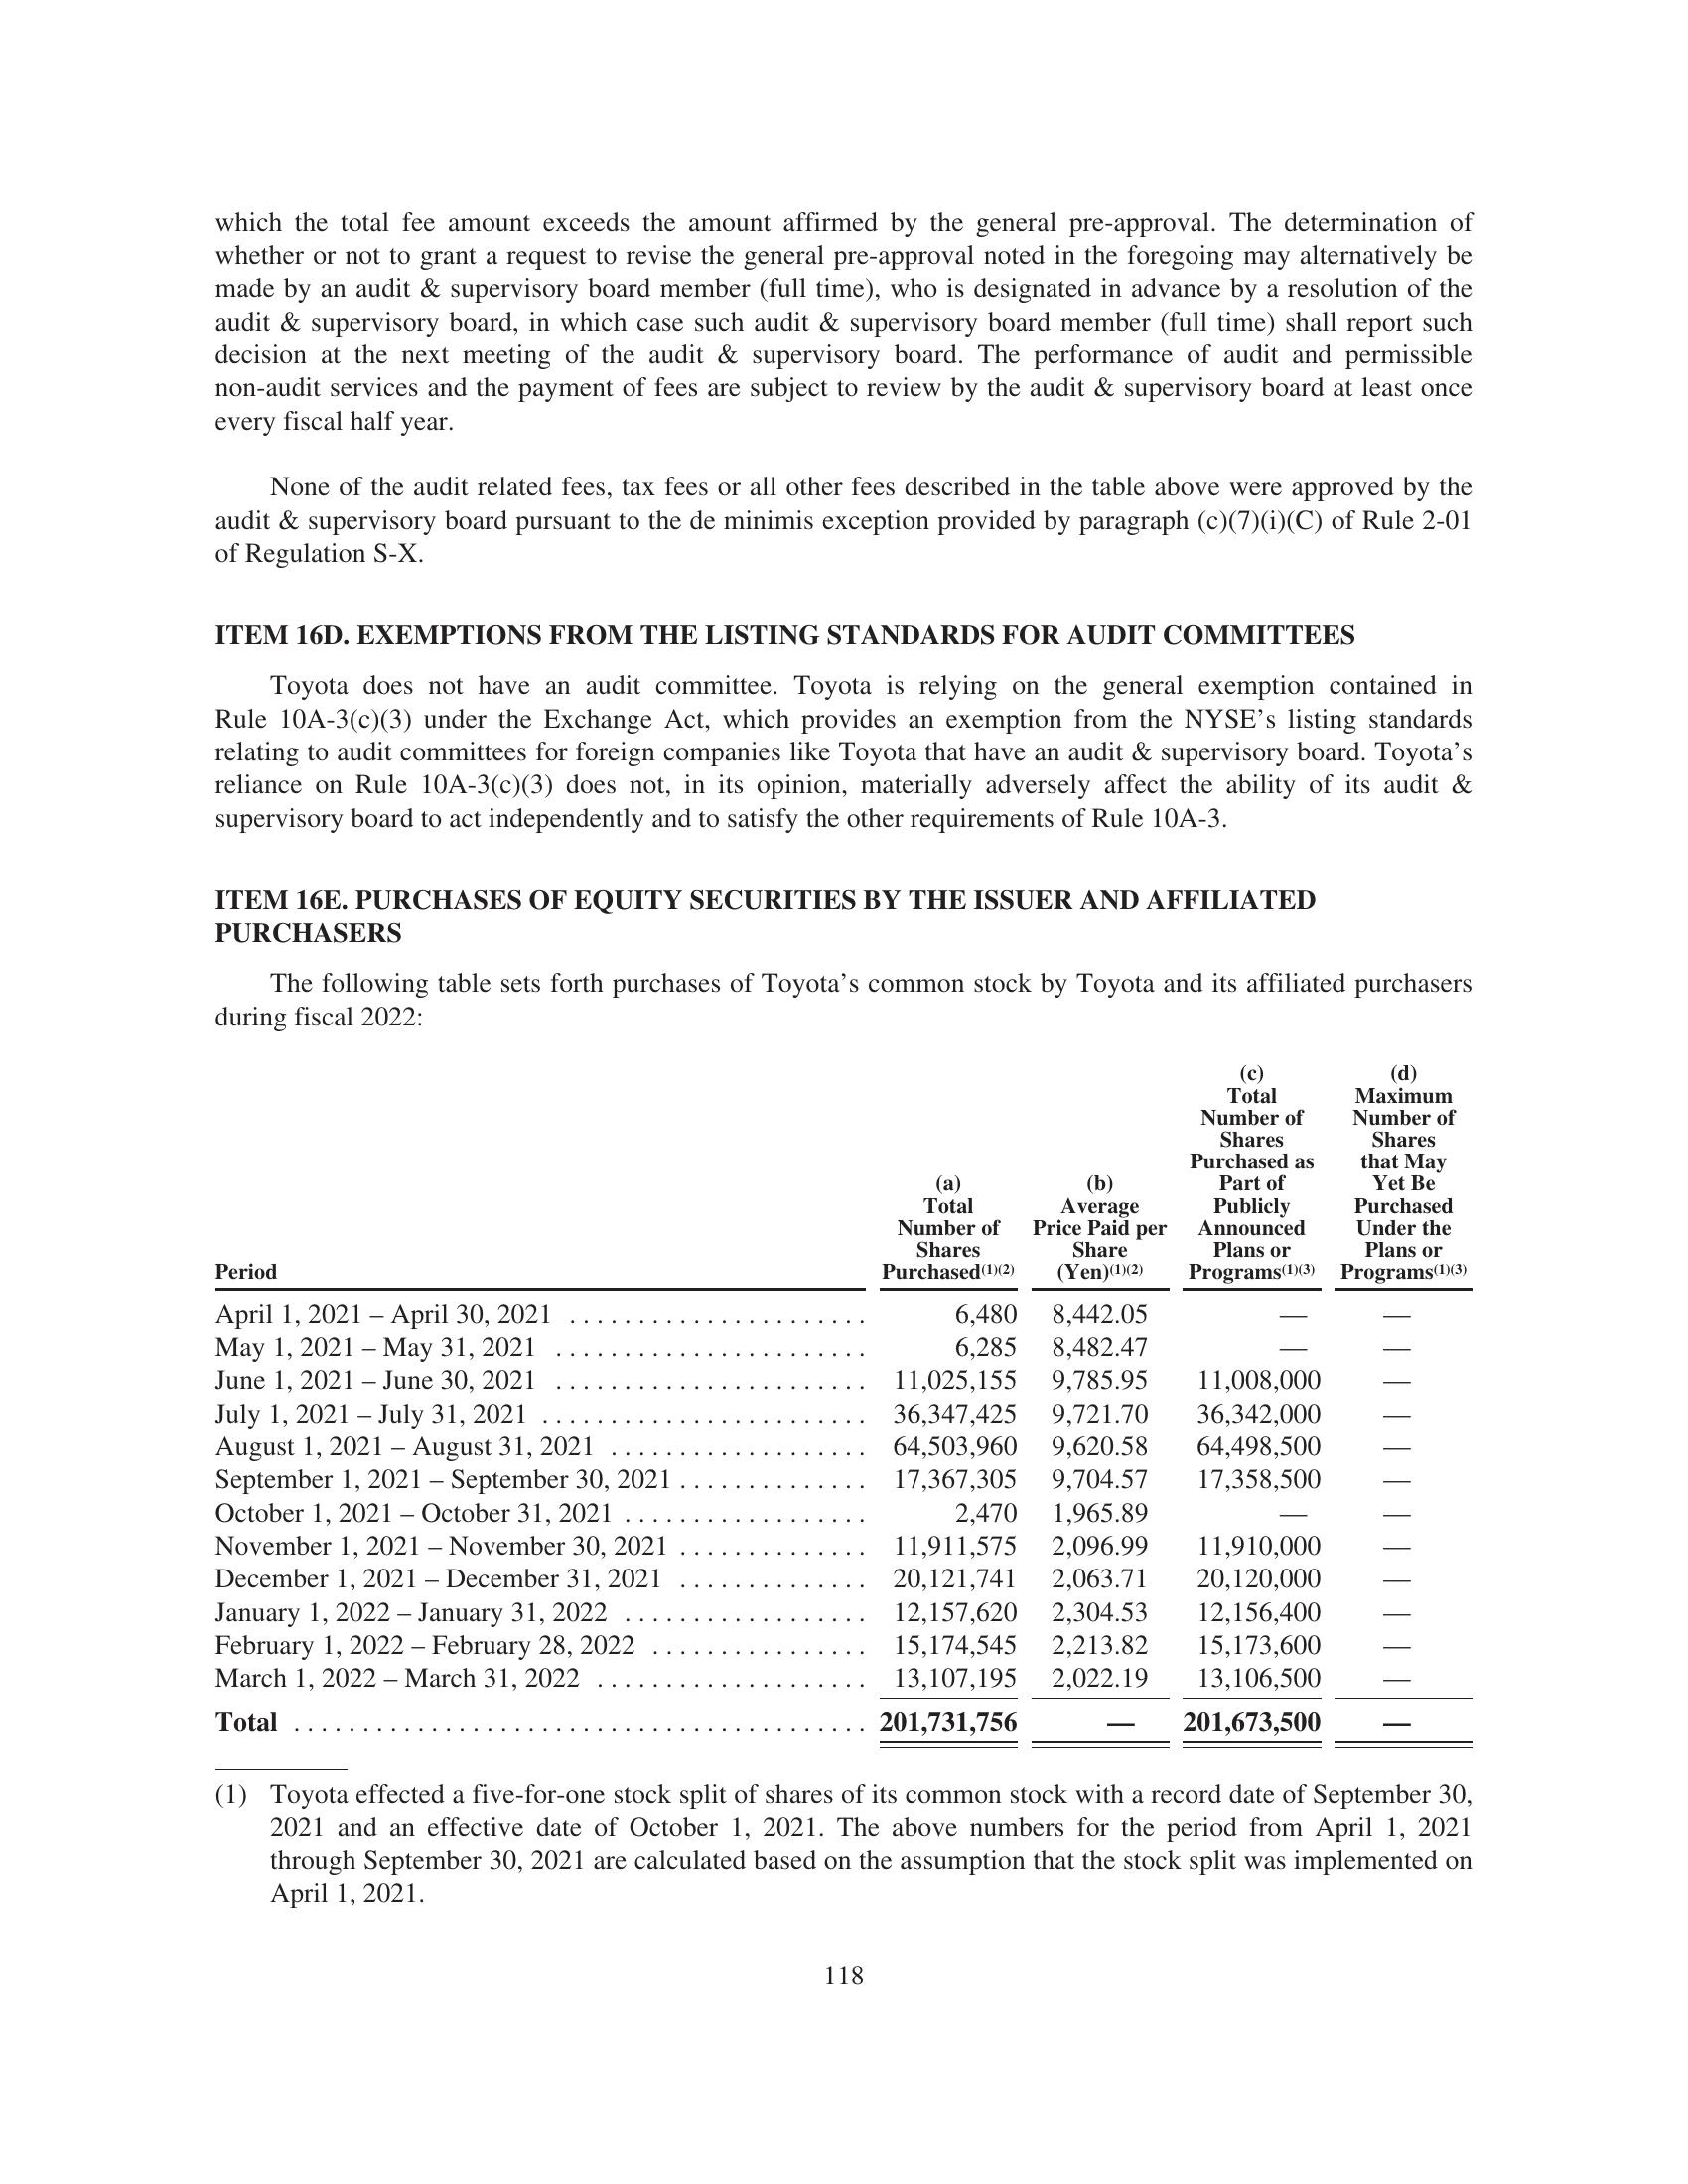Footer: (0, 1950, 1688, 2184)
Header: (0, 0, 1688, 171)
Table: (193, 1051, 1534, 1758)
